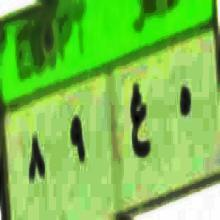8: (26, 134, 47, 190)
9: (68, 111, 88, 169)
ghayn: (128, 81, 153, 164)
haa: (176, 82, 192, 127)
